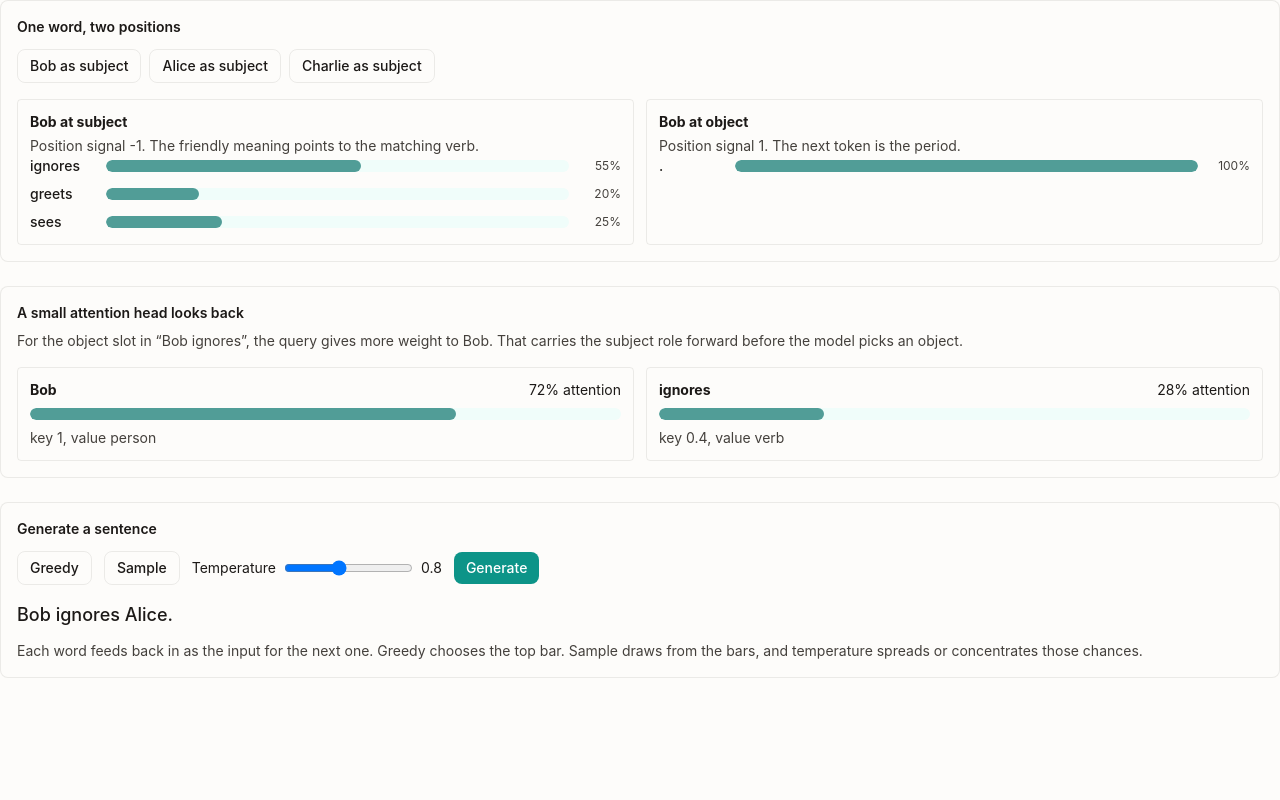
shows position-specific predictions and generation controls
Expected: the element named "subject predictions" shows "ignores", [30,157,80,174]
Expected: the element named "object predictions" shows ".", [659,157,663,174]
Click the button "Alice as subject" at (215, 66), box [150,49,281,83]
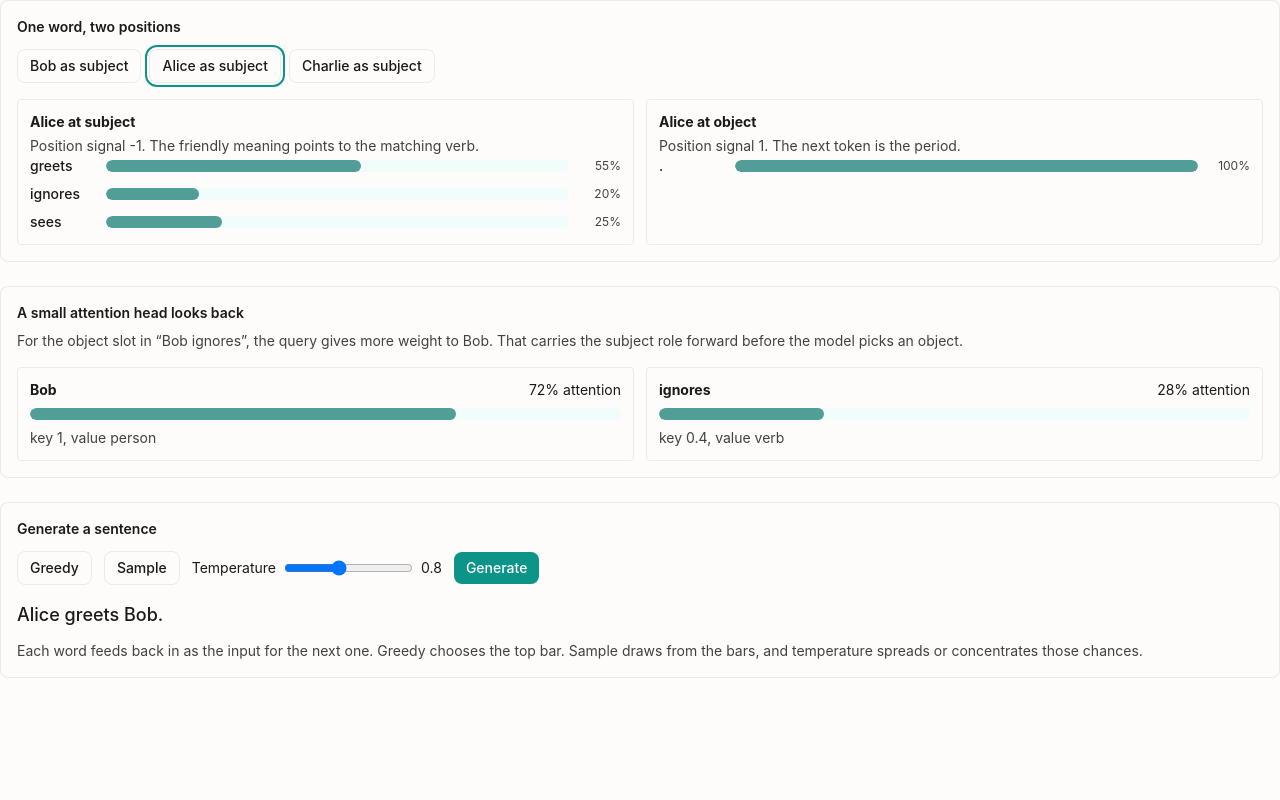
Expected: the element named "subject predictions" shows "greets", [30,157,72,174]
Click the button "Generate" at (497, 568), box [454,552,539,584]
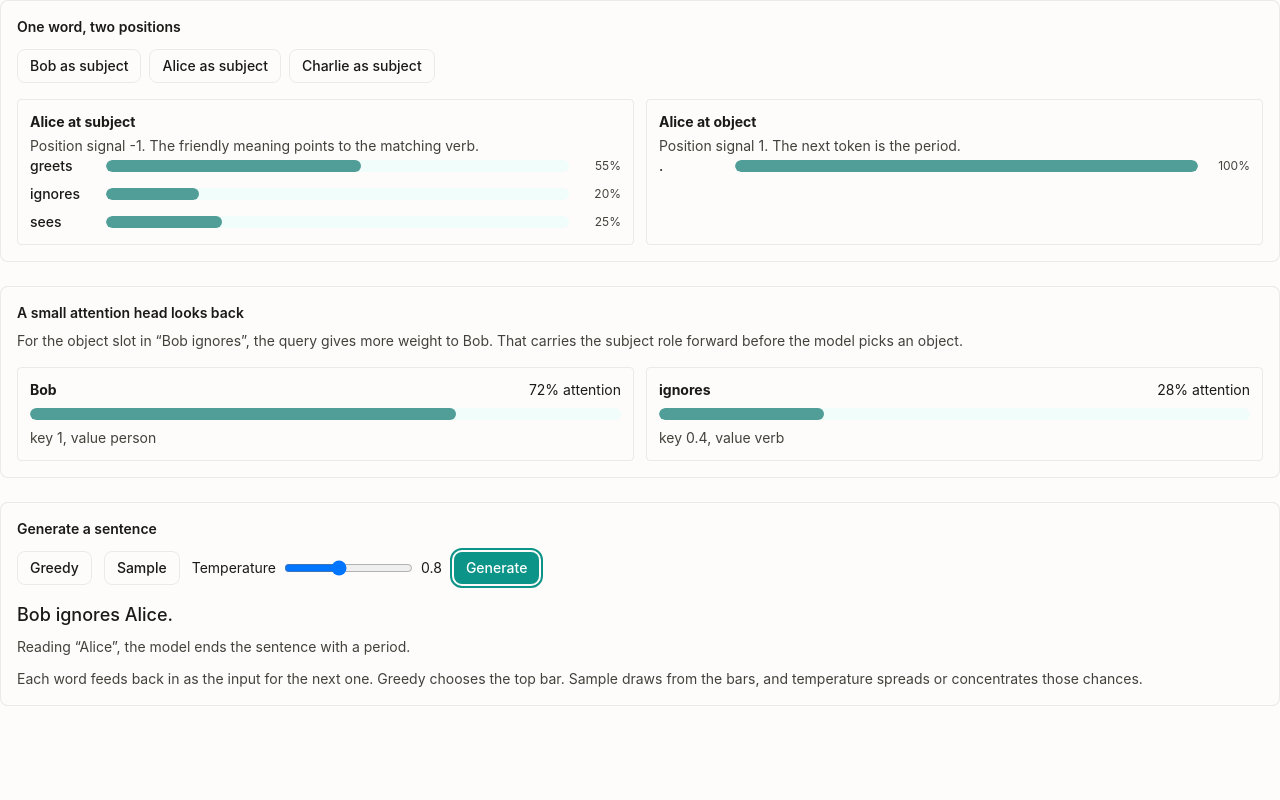
Now the element with test id "generated-sentence" reads "Bob ignores Alice.", box [17,604,173,625]
